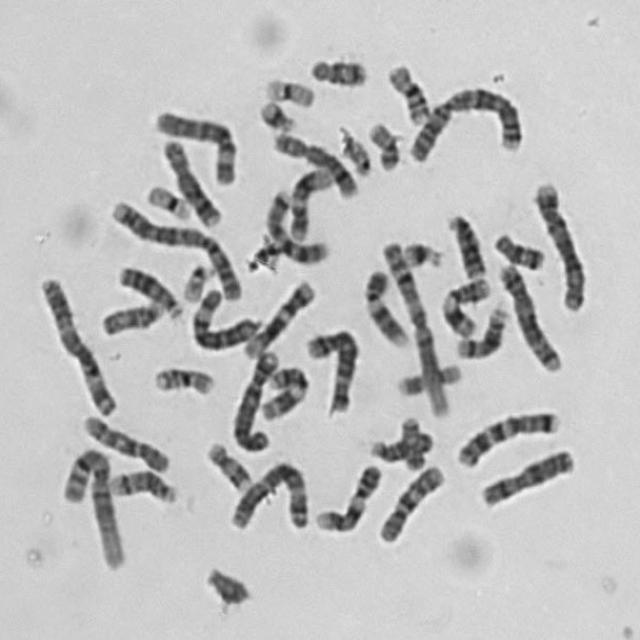A1: (376, 234, 452, 419), (56, 440, 128, 571)
A2: (103, 191, 245, 303), (402, 78, 526, 164)
A3: (32, 269, 119, 418), (222, 453, 312, 533)
B4: (528, 174, 590, 313), (225, 343, 282, 453)
B5: (493, 256, 565, 374), (299, 322, 360, 417)
C10: (372, 456, 448, 546), (76, 407, 172, 475)
C11: (436, 271, 495, 339), (254, 359, 312, 423)
C12: (237, 272, 318, 360), (283, 160, 335, 242)
C6: (147, 102, 239, 187), (185, 282, 261, 352)
C7: (451, 403, 563, 470), (259, 182, 334, 266)
C8: (266, 125, 361, 200), (155, 130, 223, 228)
C9: (310, 457, 383, 534), (357, 261, 414, 349)
D13: (111, 258, 185, 322), (440, 206, 488, 280)
D14: (450, 299, 510, 360), (103, 463, 180, 505)
D15: (95, 292, 166, 338), (365, 426, 437, 464)
E16: (381, 56, 434, 125), (147, 359, 217, 397)
E17: (200, 435, 254, 493), (392, 355, 464, 397)
E18: (488, 225, 548, 271), (304, 49, 371, 89)
F19: (140, 176, 195, 222), (259, 70, 318, 109)
F20: (362, 115, 402, 172), (395, 409, 427, 472)
G21: (253, 92, 298, 133), (396, 234, 445, 270)
G22: (333, 125, 372, 178), (176, 255, 213, 304)
X: (475, 441, 578, 509)
Y: (198, 559, 251, 607)
